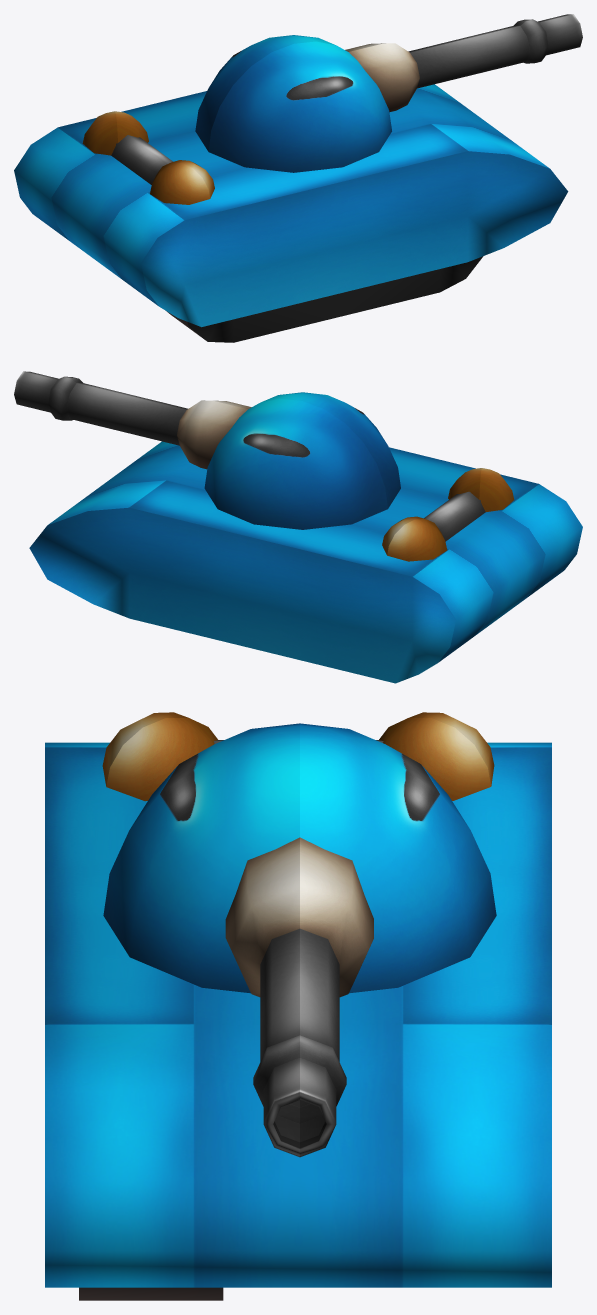
File: tank2.fbx
3 renders of one model, top to bottom at view 1: azimuth 30°, elevation 25°; view 2: azimuth 150°, elevation 25°; view 3: azimuth 270°, elevation 25°, orthographic. The views are drawn at different scales.
Parts seen in each view (by area): view 1: polySurface9, polySurface1, polySurface7; view 2: polySurface9, polySurface1; view 3: polySurface9, polySurface1, polySurface7.
Boxes of the visible parts, <box> form: polySurface9: <box>14,84,568,327</box>; polySurface1: <box>195,14,582,172</box>; polySurface7: <box>166,256,483,342</box>; polySurface9: <box>29,441,582,683</box>; polySurface1: <box>14,371,400,529</box>; polySurface9: <box>45,712,551,1287</box>; polySurface1: <box>103,723,496,1157</box>; polySurface7: <box>79,1287,223,1300</box>.
Bounding box in the file's own units: 29.97 × 13.28 × 13.26.
Materials: 1 (1 with a texture image).
